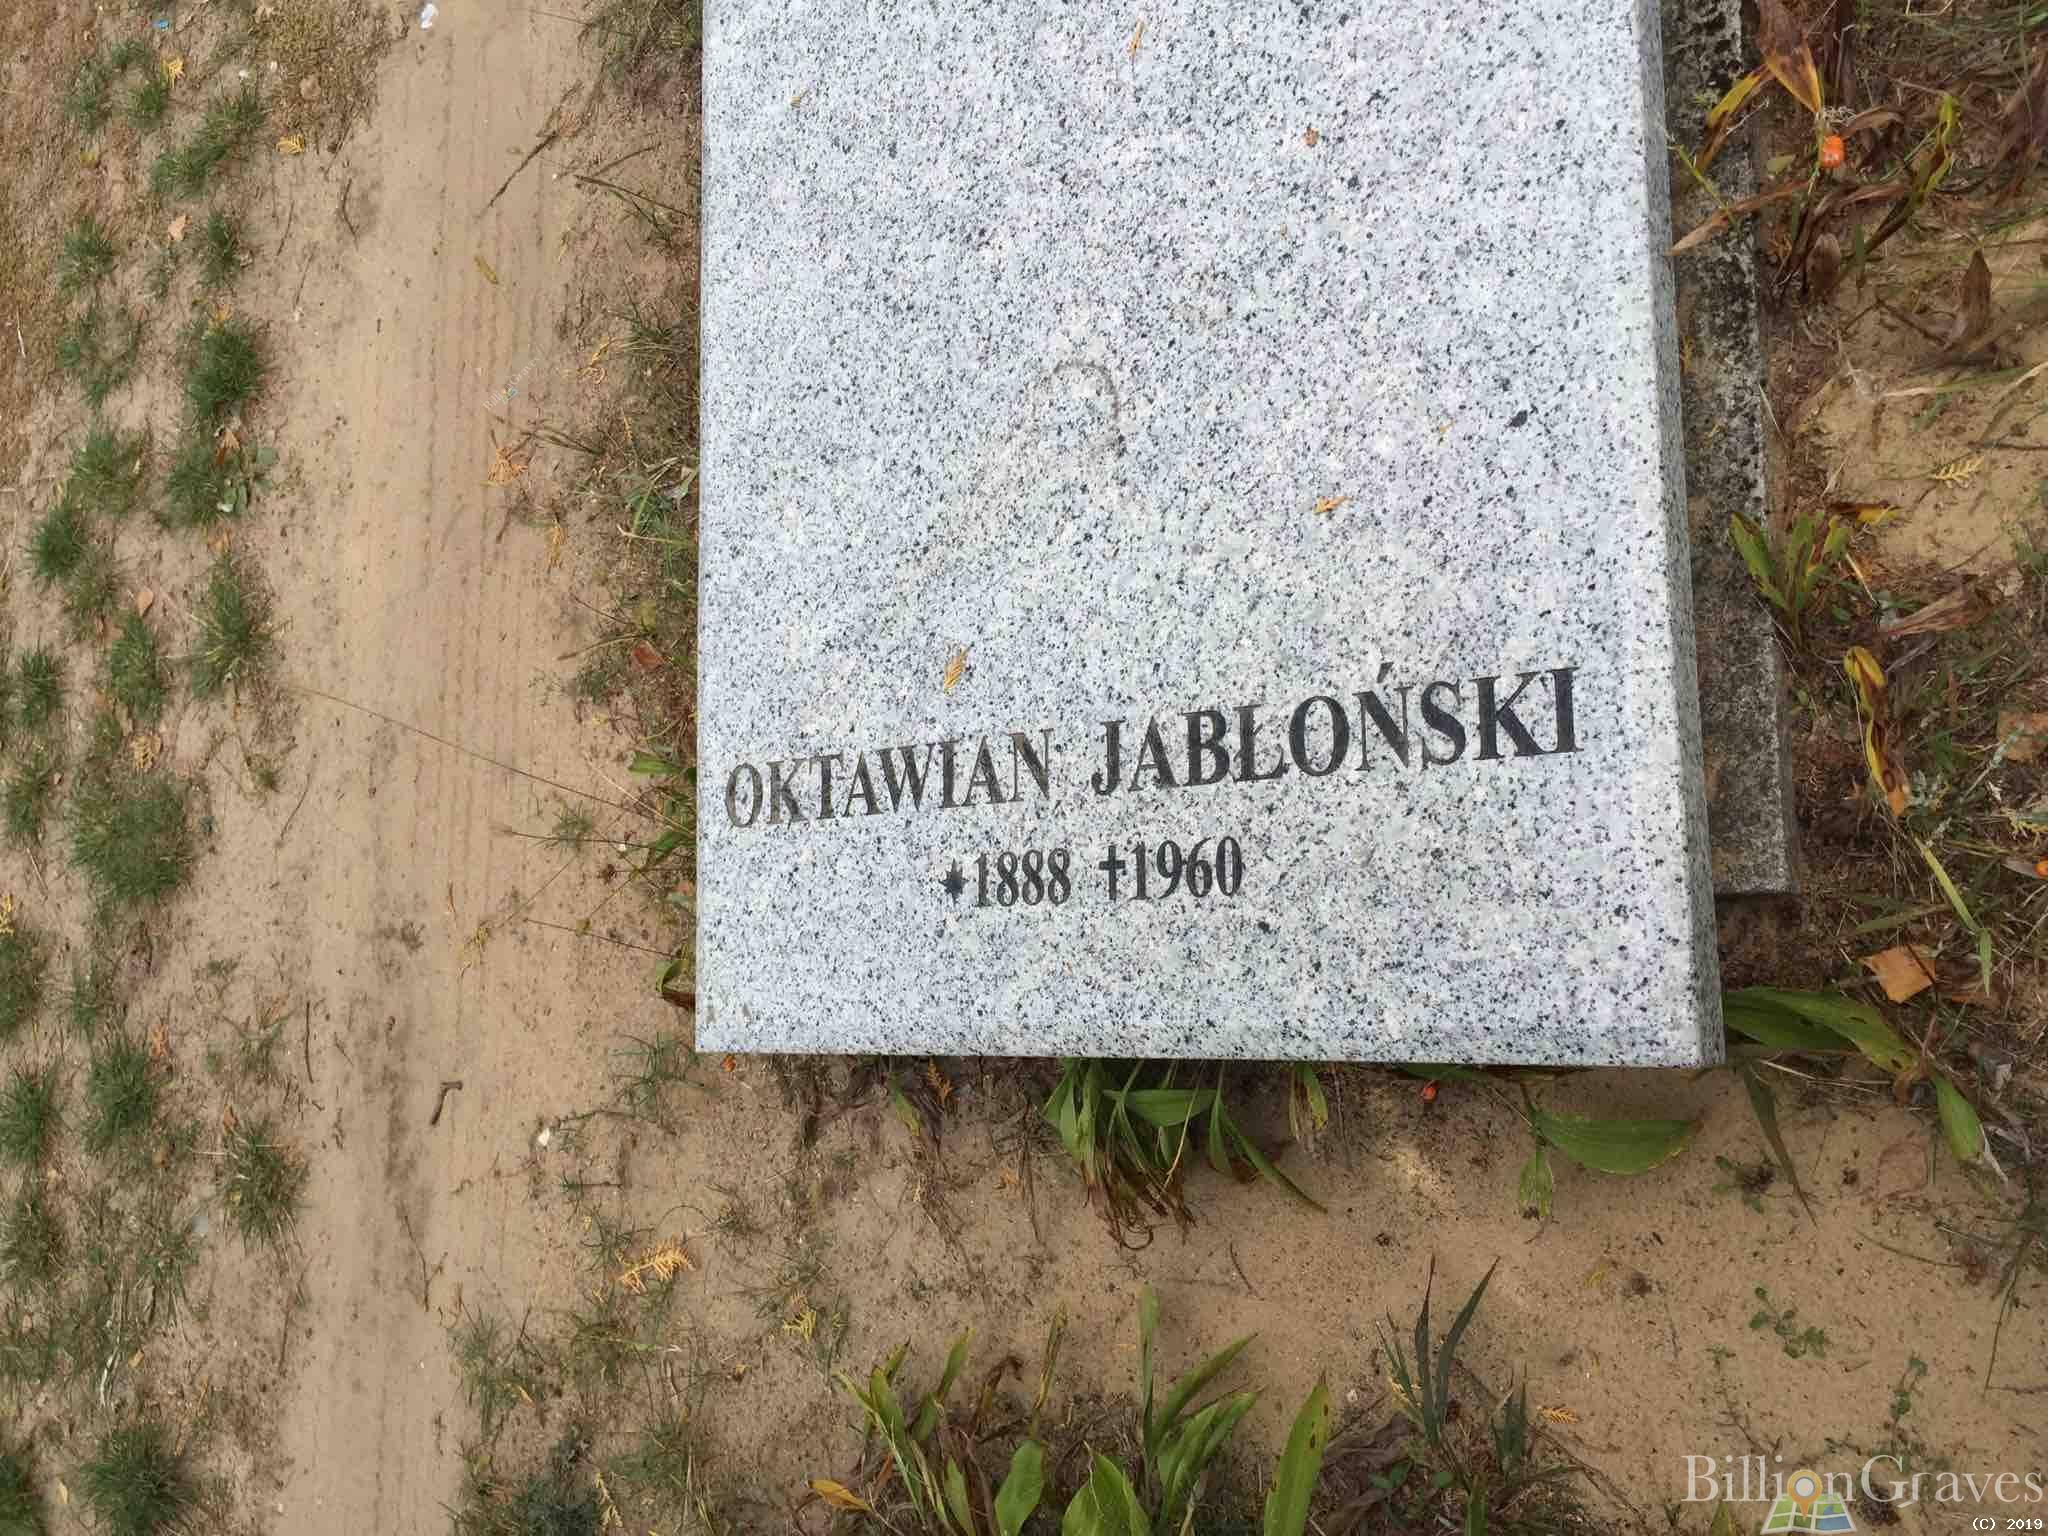vault: (681, 13, 1804, 1070)
